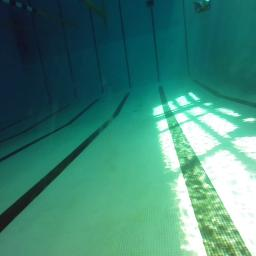Full: (146, 0, 155, 8)
back: (193, 0, 213, 14)
